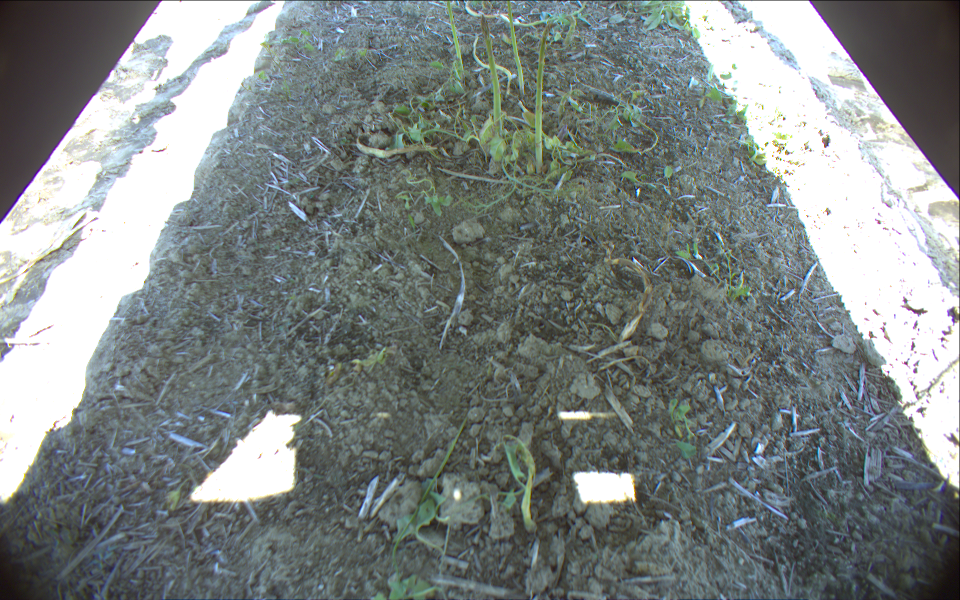aspa: (477, 15, 509, 142), (530, 20, 550, 175), (504, 1, 529, 101), (445, 1, 468, 85)
